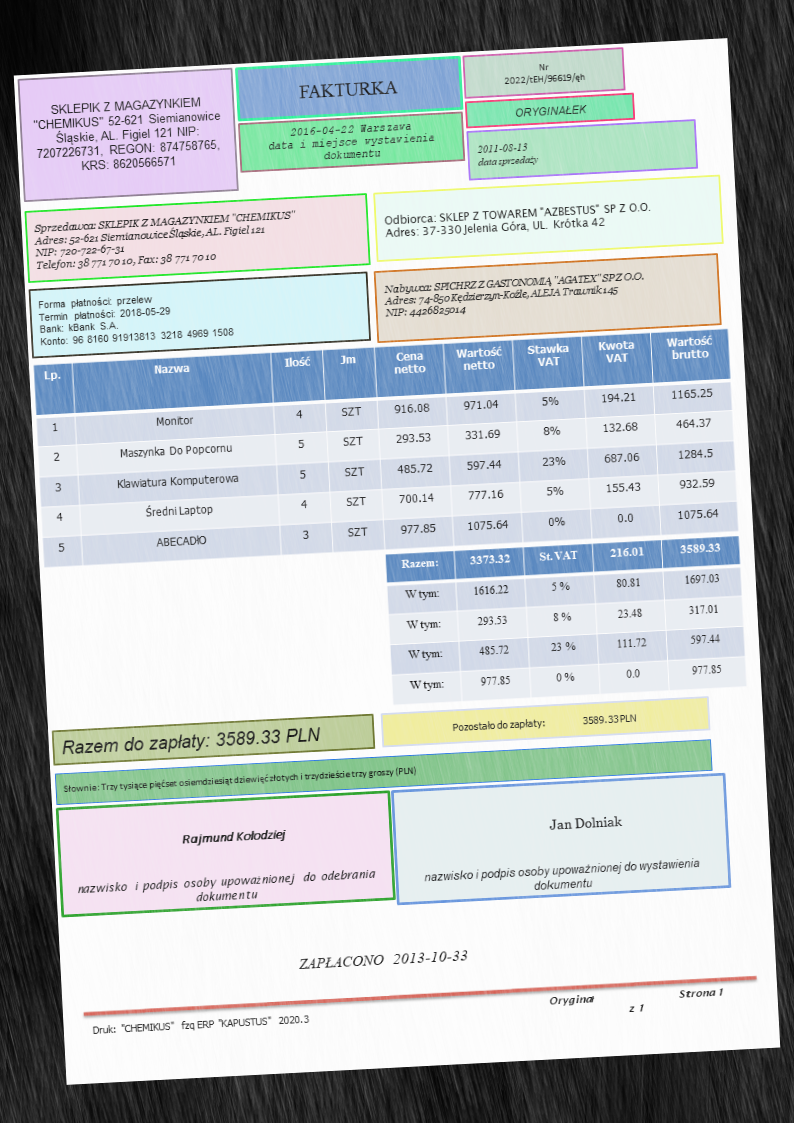Table: (32, 327, 740, 569), (384, 533, 748, 706)
TextBox: (29, 207, 302, 274), (30, 93, 226, 176), (381, 268, 648, 321), (75, 867, 378, 910), (422, 854, 701, 899), (34, 288, 235, 348), (60, 764, 418, 796), (381, 199, 653, 241), (58, 722, 324, 758), (265, 118, 438, 166), (547, 985, 727, 1018), (90, 1011, 310, 1037), (298, 947, 469, 973), (450, 711, 637, 734), (294, 77, 400, 102), (502, 59, 587, 89), (179, 826, 287, 848), (474, 139, 539, 169), (546, 812, 626, 834), (512, 100, 589, 120)
